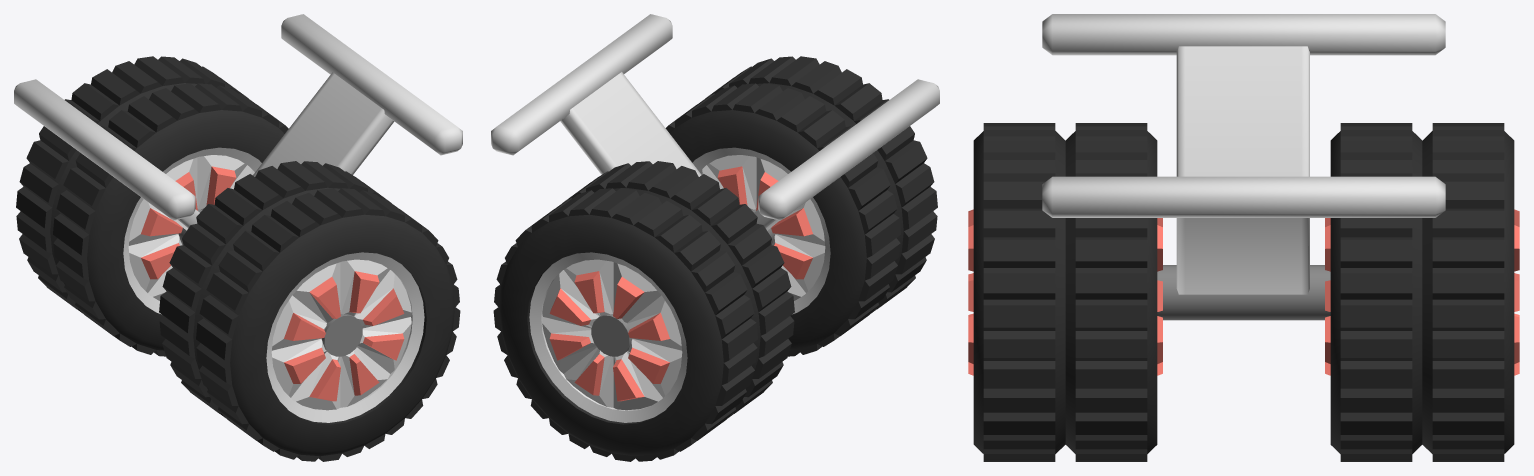
File: wheels_rubber_big_double.fbx
The picture shows the model from 3 angles, left to right: view 1: azimuth 30°, elevation 25°; view 2: azimuth 150°, elevation 25°; view 3: azimuth 270°, elevation 25°; orthographic projection. The views are drawn at different scales.
Parts seen in each view (by area): view 1: wheels_rubber_big_double; view 2: wheels_rubber_big_double; view 3: wheels_rubber_big_double.
Part boxes in pixels (x1,y1,x2,y2): wheels_rubber_big_double: [14, 14, 462, 461]; wheels_rubber_big_double: [491, 14, 939, 461]; wheels_rubber_big_double: [968, 14, 1519, 461].
Size of the model in its own units: 199 by 179 by 258.
